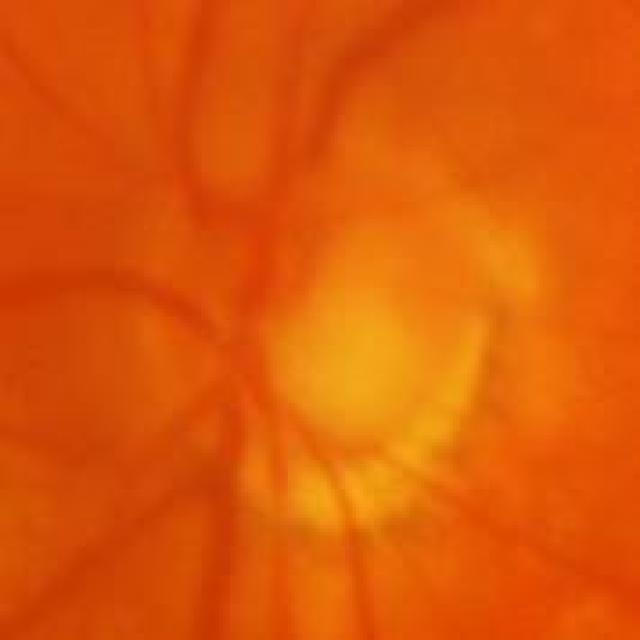OC: (276, 268, 420, 436)
OD: (128, 101, 498, 537)
